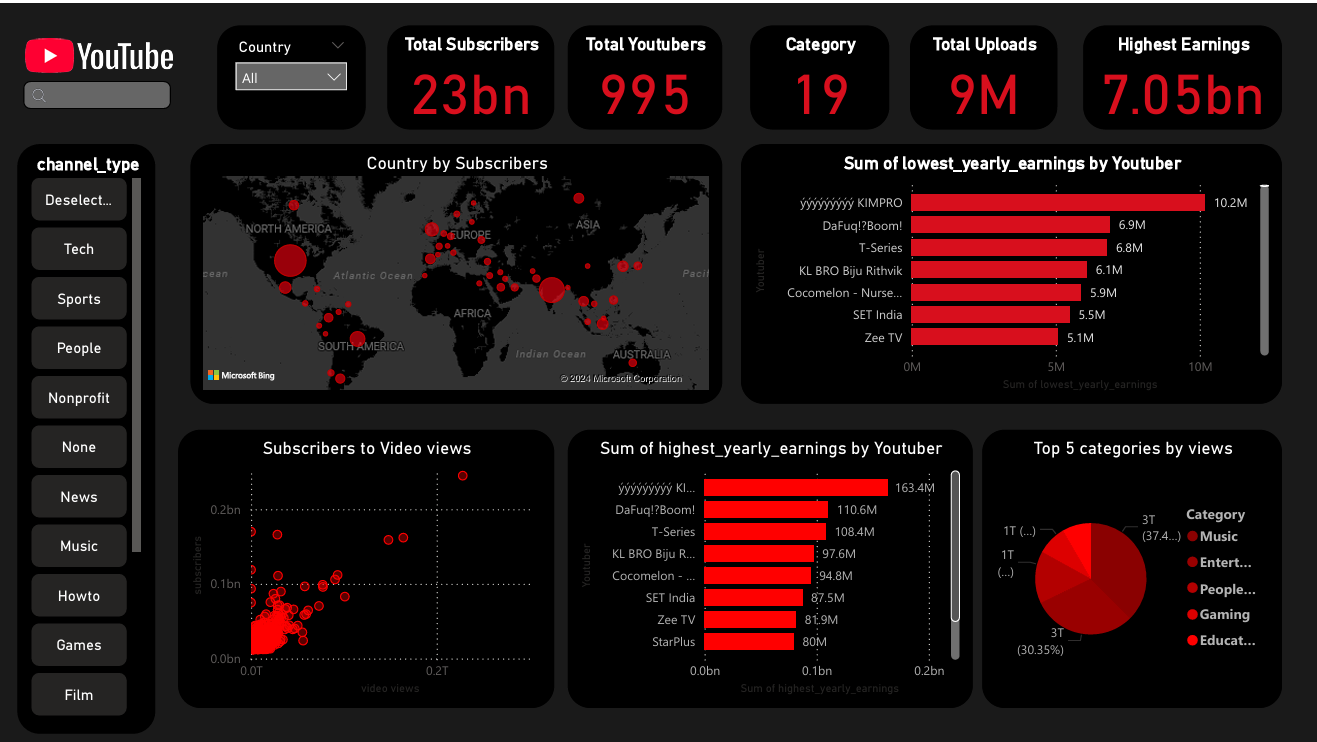

Layout of this report page (visuals, bound fields, positions):
{"tool":"powerbi","page":{"name":"Page 1","canvas":[1280,720],"ordinal":0},"visuals":[{"type":"card","title":"Total Subscribers","fields":{"Values":["Sum(Onyx Data -DataDNA Dataset Chal.subscribers)"]},"box":[374.6,20.6,161.9,101.5],"z":0},{"type":"card","title":"Total Youtubers","fields":{"Values":["Count(Onyx Data -DataDNA Dataset Chal.Youtuber)"]},"box":[550.3,20.6,149.6,101.5],"z":1000},{"type":"card","title":"Category","fields":{"Values":["Count(Onyx Data -DataDNA Dataset Chal.category)"]},"box":[727.3,20.6,134.5,101.5],"z":2000},{"type":"card","title":"Total Uploads","fields":{"Values":["Sum(Onyx Data -DataDNA Dataset Chal.uploads)"]},"box":[882.3,20.6,142.7,101.5],"z":3000},{"type":"card","title":"Highest Earnings","fields":{"Values":["Sum(Onyx Data -DataDNA Dataset Chal.highest_yearly_earnings)"]},"box":[1049.7,20.6,193.5,101.5],"z":4000},{"type":"map","title":"Country by Subscribers","fields":{"Size":["Sum(Onyx Data -DataDNA Dataset Chal.subscribers)"],"Category":["Onyx Data -DataDNA Dataset Chal.Country"]},"box":[183.9,135.8,516,252.5],"z":5000},{"type":"clusteredBarChart","fields":{"Category":["Onyx Data -DataDNA Dataset Chal.Youtuber"],"Y":["Sum(Onyx Data -DataDNA Dataset Chal.lowest_yearly_earnings)"]},"box":[717.7,135.8,525.6,252.5],"z":6000},{"type":"advancedSlicerVisual","fields":{"Values":["Onyx Data -DataDNA Dataset Chal.channel_type"]},"box":[16.5,135.8,133.1,572.2],"z":7000},{"type":"scatterChart","title":"Subscribers to Video views","fields":{"X":["Onyx Data -DataDNA Dataset Chal.video views"],"Y":["Onyx Data -DataDNA Dataset Chal.subscribers"]},"box":[171.5,413,365,270.3],"z":8000},{"type":"barChart","fields":{"Category":["Onyx Data -DataDNA Dataset Chal.Youtuber"],"Y":["Sum(Onyx Data -DataDNA Dataset Chal.highest_yearly_earnings)"]},"box":[550.3,413,392.5,270.3],"z":9000},{"type":"pieChart","title":"Top 5 categories by views","fields":{"Category":["Onyx Data -DataDNA Dataset Chal.category"],"Y":["Sum(Onyx Data -DataDNA Dataset Chal.video views)"]},"box":[952.3,413,290.9,270.3],"z":10000},{"type":"slicer","fields":{"Values":["Onyx Data -DataDNA Dataset Chal.Country"]},"box":[209.9,20.6,144.1,101.5],"z":11000},{"type":"image","box":[22,28.8,149.6,42.5],"z":12000},{"type":"image","box":[19.5,27.9,58.4,44.3],"z":13000},{"type":"shape","box":[22.1,75.4,142.6,26.2],"z":14000},{"type":"image","box":[22.1,75.4,29.2,26.2],"z":15000}]}

Visuals, with their boxes in screenshot pixels (x1, y1, x2, y2), scaled from the page's 1280x720 canvas onto the 1317x742 screenshot:
"Total Subscribers" card: (385,21,552,126)
"Total Youtubers" card: (566,21,720,126)
"Category" card: (748,21,887,126)
"Total Uploads" card: (908,21,1055,126)
"Highest Earnings" card: (1080,21,1279,126)
"Country by Subscribers" map: (189,140,720,400)
clusteredBarChart - Onyx Data -DataDNA Dataset Chal.Youtuber x Sum(Onyx Data -DataDNA Dataset Chal.lowest_yearly_earnings): (738,140,1279,400)
advancedSlicerVisual - Onyx Data -DataDNA Dataset Chal.channel_type: (17,140,154,730)
"Subscribers to Video views" scatterChart: (176,426,552,704)
barChart - Onyx Data -DataDNA Dataset Chal.Youtuber x Sum(Onyx Data -DataDNA Dataset Chal.highest_yearly_earnings): (566,426,970,704)
"Top 5 categories by views" pieChart: (980,426,1279,704)
slicer - Onyx Data -DataDNA Dataset Chal.Country: (216,21,364,126)
image: (23,30,177,73)
image: (20,29,80,74)
shape: (23,78,169,105)
image: (23,78,53,105)
